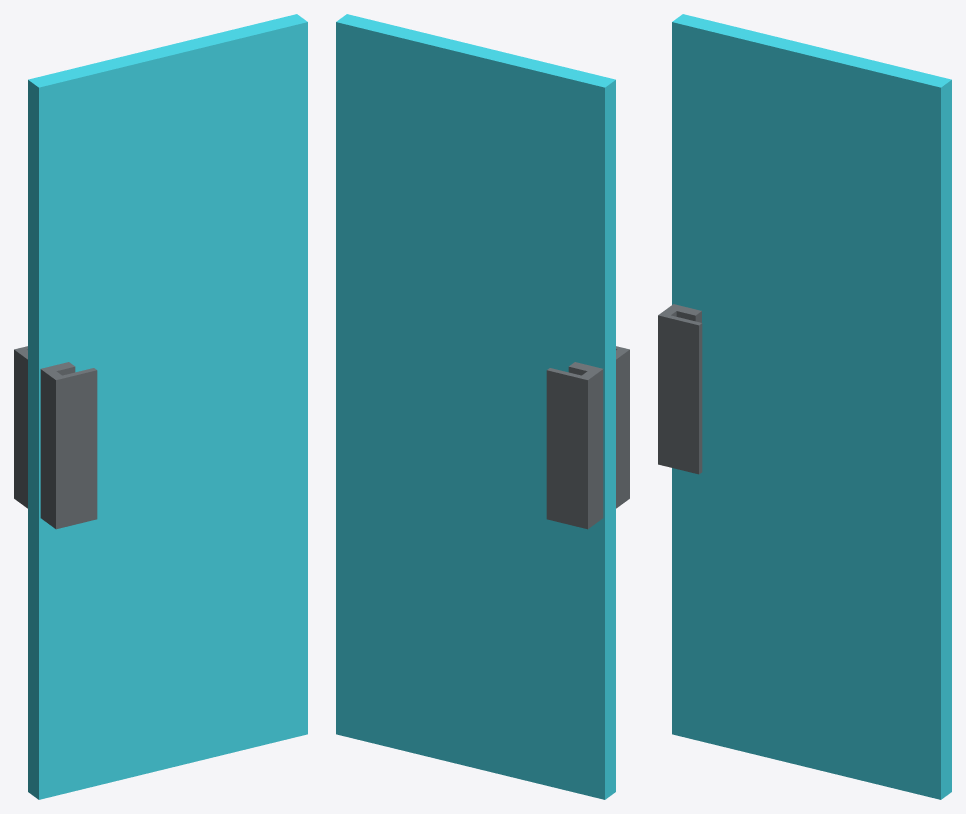
Rendered from SM_Buildings_Factory_01_Door_R.fbx.
The picture shows the model from 3 angles, left to right: view 1: azimuth 30°, elevation 25°; view 2: azimuth 150°, elevation 25°; view 3: azimuth 330°, elevation 25°; orthographic projection.
Parts seen in each view (by area): view 1: SM_Buildings_Factory_01_Door_R; view 2: SM_Buildings_Factory_01_Door_R; view 3: SM_Buildings_Factory_01_Door_R.
Part boxes in pixels (<box>): SM_Buildings_Factory_01_Door_R: <box>14,14,307,799</box>; SM_Buildings_Factory_01_Door_R: <box>336,14,629,799</box>; SM_Buildings_Factory_01_Door_R: <box>658,14,951,799</box>.
Bounding box in the file's own units: 0.85 × 2.15 × 0.23.
